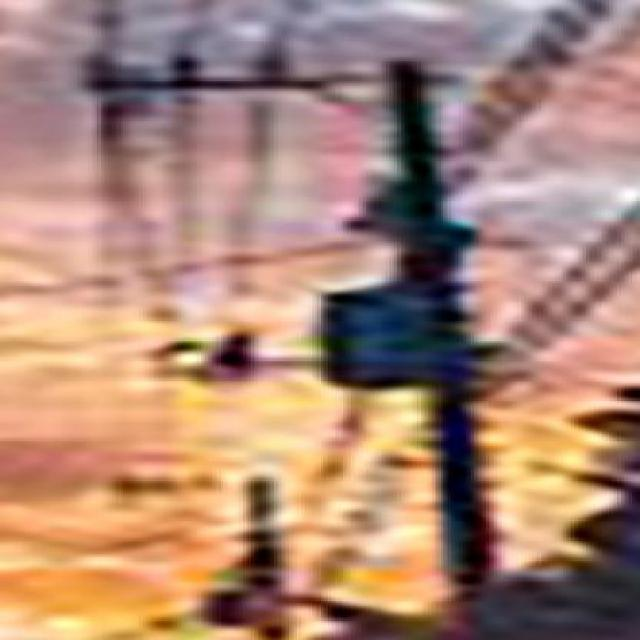pole: (65, 48, 558, 590)
